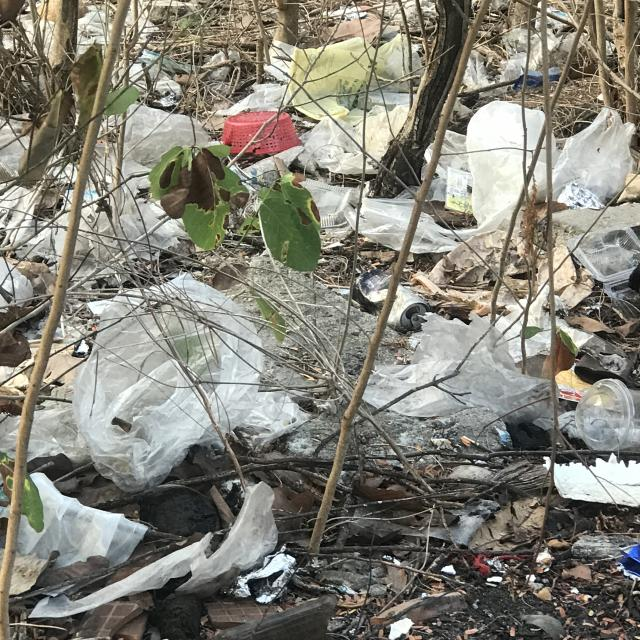Single-layer Plastic: (72, 274, 262, 491), (27, 479, 288, 616), (364, 314, 552, 424), (9, 460, 159, 588), (348, 186, 466, 274), (466, 101, 544, 231), (59, 112, 222, 172), (552, 108, 635, 204), (299, 105, 409, 175), (284, 44, 380, 111), (0, 112, 39, 178), (534, 155, 546, 200)
